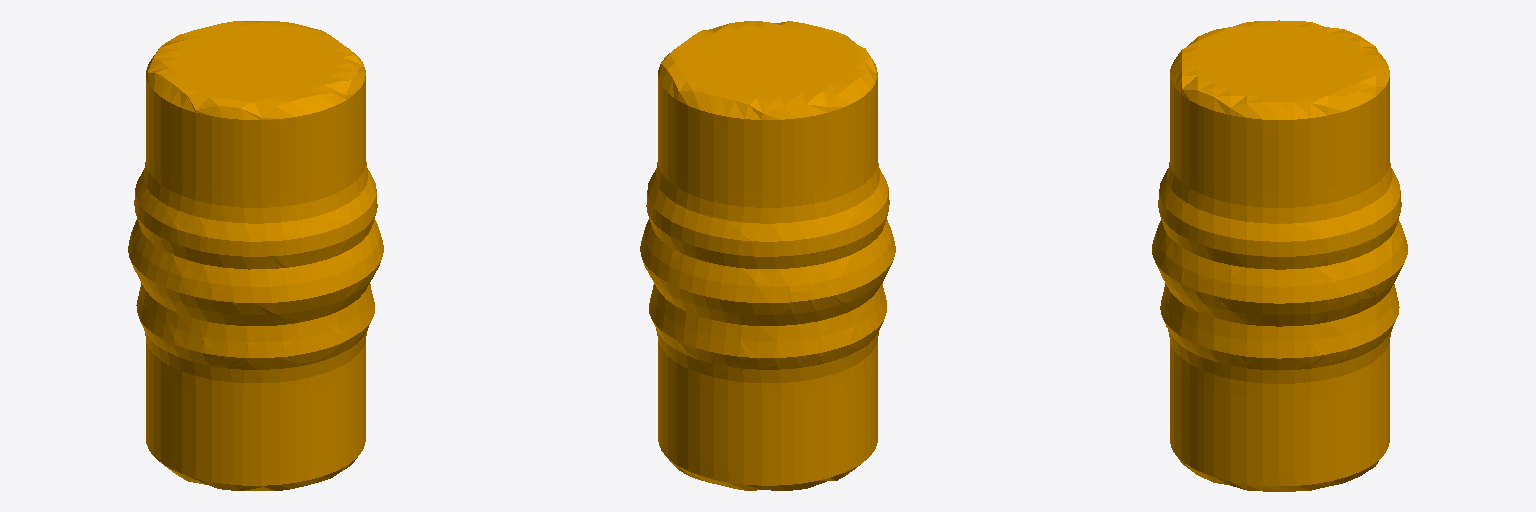
The robot description file, URDF, robot "cylinder_../../meshes/cylinders/cylinder_162.stl":
<?xml version="1.0" encoding="utf-8"?>  <robot name="cylinder_../../meshes/cylinders/cylinder_162.stl">   <link name="cylinder_../../meshes/cylinders/cylinder_162.stl">     <visual>       <geometry>         <mesh filename="../meshes/cylinders/cylinder_162.stl" scale="1 1 1"/>       </geometry>     </visual>     <collision>       <geometry>         <mesh filename="../meshes/cylinders/cylinder_162.stl" scale="1 1 1"/>       </geometry>     </collision>     <inertial>        <origin         xyz="0 0 0"         rpy="0 0 0" />       <mass value="0.513929284486999"/>       <origin rpy="0 0 0" xyz="0 0 0"/>       <inertia ixx="0.0008637742416682745" ixy="-2.0587527138396412e-08" ixz="-2.079988125025286e-09" iyy="0.0008637735570885371" iyz="8.002629453023128e-10" izz="0.00031977826351521486"/>     </inertial>   </link>  </robot>

--- Render facts (derived) ---
3 views of the same robot in one strip: view 1: azimuth 30°, elevation 25°; view 2: azimuth 150°, elevation 25°; view 3: azimuth 270°, elevation 25° (orthographic).
Robot: cylinder_../../meshes/cylinders/cylinder_162.stl — 1 links, 0 joints (none); root link cylinder_../../meshes/cylinders/cylinder_162.stl; default pose: every joint at zero.
Links seen in each view (by area): view 1: cylinder_../../meshes/cylinders/cylinder_162.stl; view 2: cylinder_../../meshes/cylinders/cylinder_162.stl; view 3: cylinder_../../meshes/cylinders/cylinder_162.stl.
Boxes of the visible links, x1,y1,x2,y2 form: cylinder_../../meshes/cylinders/cylinder_162.stl: [128, 21, 383, 490]; cylinder_../../meshes/cylinders/cylinder_162.stl: [640, 21, 895, 490]; cylinder_../../meshes/cylinders/cylinder_162.stl: [1152, 20, 1407, 491].
Size in the robot's own frame: 0.0794 by 0.0794 by 0.1328 metres.
Meshes: 1 distinct files referenced, 1 mesh visuals loaded (1 binary STL).